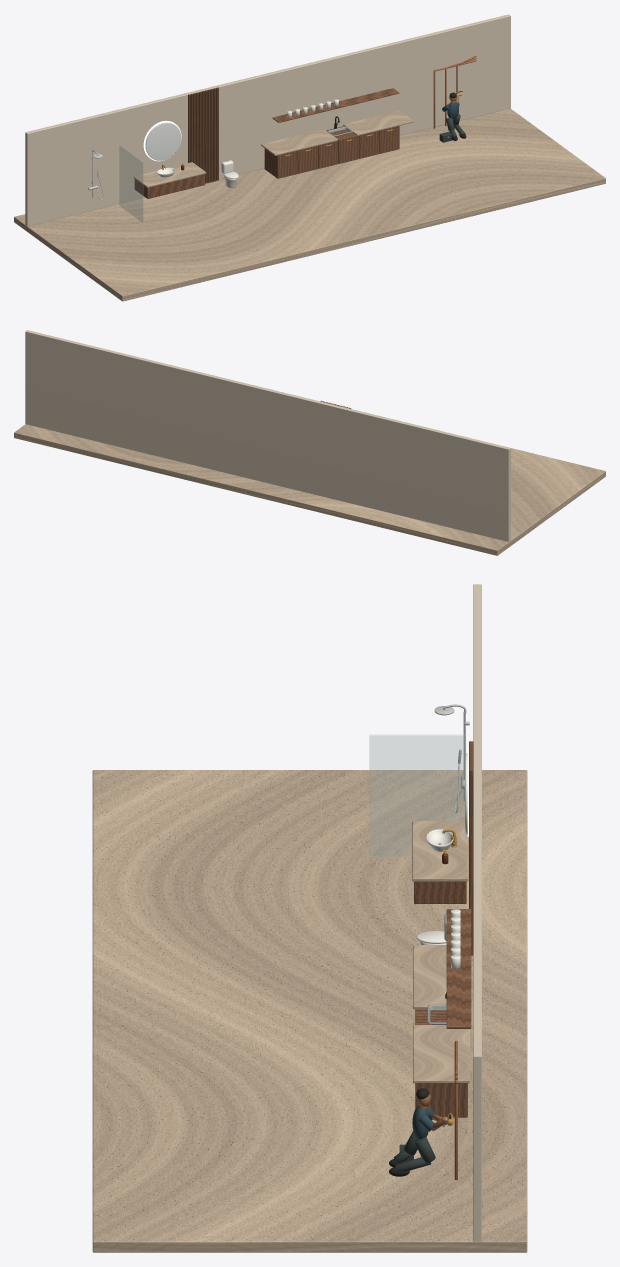
File: showroom.glb
3 views of the same model, one above another, from view 1: azimuth 30°, elevation 25°; view 2: azimuth 150°, elevation 25°; view 3: azimuth 270°, elevation 25° (orthographic). The views are drawn at different scales.
Parts seen in each view (by area): view 1: Gallery floor, Limewash wall, Shower glass, Silver mirror, Counter slab, Counter slab.001, Floating vanity, Stone countertop, Kitchen shelf, Oak kitchen cabinet, Oak kitchen cabinet.003, Oak kitchen cabinet.001 (+3 smaller); view 2: Limewash wall, Gallery floor; view 3: Gallery floor, Shower glass, Limewash wall, Counter slab.001, Stone countertop, Kitchen shelf, Counter slab, Oak kitchen cabinet.005, Floating vanity.
Part boxes in pixels (x1,y1,x2,y2): Gallery floor: (14,108,605,301); Limewash wall: (25,14,510,226); Shower glass: (119,145,143,222); Silver mirror: (145,122,181,160); Counter slab: (261,129,338,155); Counter slab.001: (343,110,413,135); Floating vanity: (134,174,205,198); Stone countertop: (133,162,206,187); Kitchen shelf: (272,88,399,122); Oak kitchen cabinet: (264,148,297,178); Oak kitchen cabinet.003: (326,126,358,163); Oak kitchen cabinet.001: (297,146,317,173); Limewash wall: (25,330,510,541); Gallery floor: (14,424,605,555); Gallery floor: (92,770,527,1252); Shower glass: (369,735,464,857); Limewash wall: (473,584,481,1241); Counter slab.001: (413,1025,469,1083); Stone countertop: (412,821,468,881); Kitchen shelf: (446,909,471,1028); Counter slab: (413,945,446,1009); Oak kitchen cabinet.005: (415,1083,467,1117); Floating vanity: (414,881,466,903).
Bounding box in the file's own units: 18 × 3.5 × 7.
17 materials, 2 textured.
